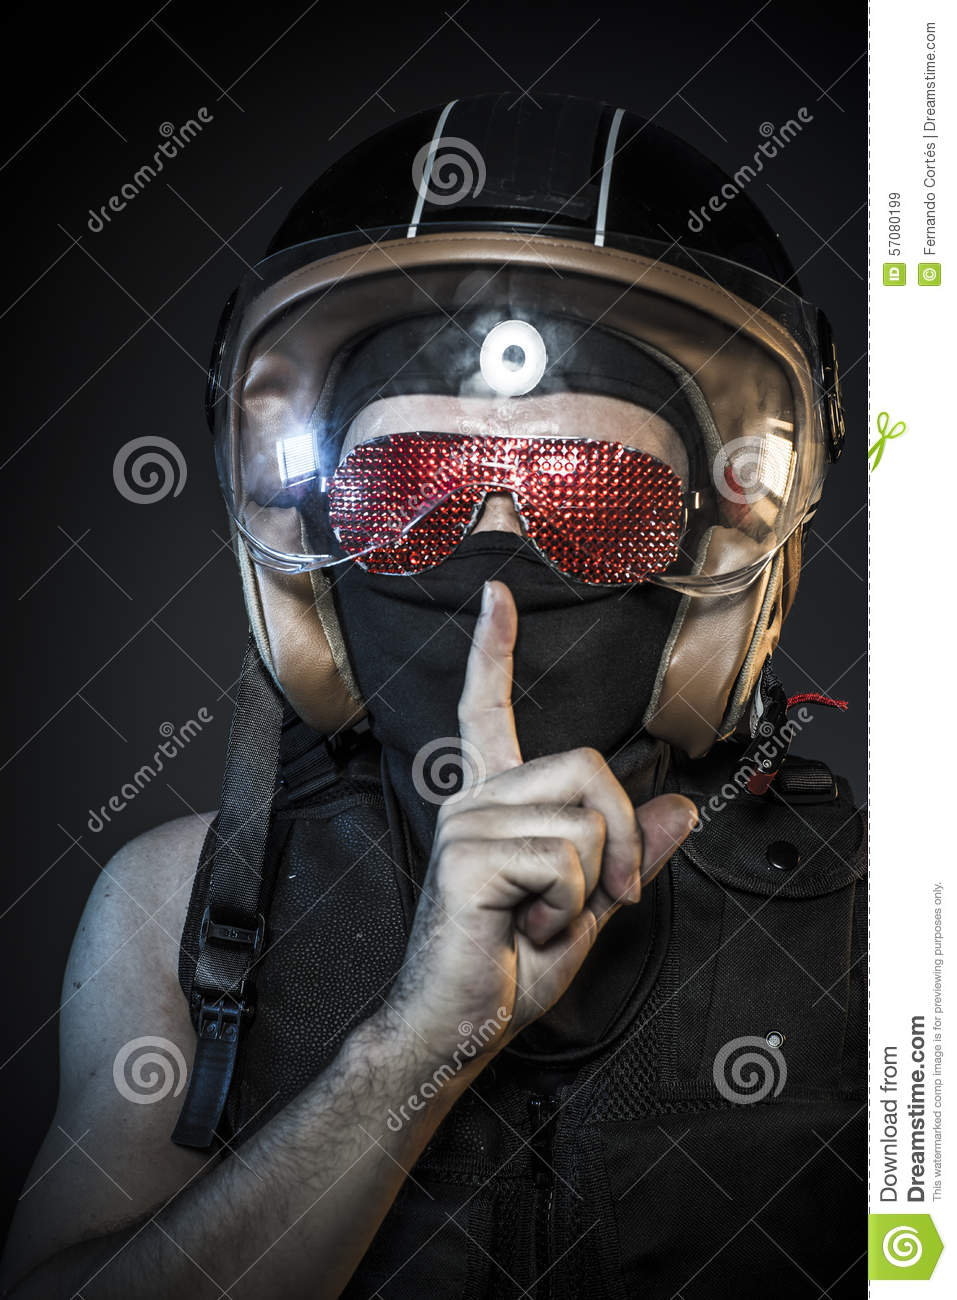helmet: (216, 127, 786, 721)
